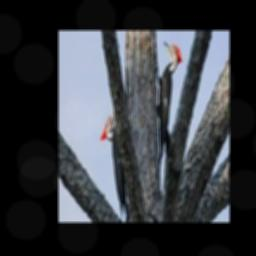Woodpecker: (154, 41, 181, 167), (100, 102, 127, 217)
